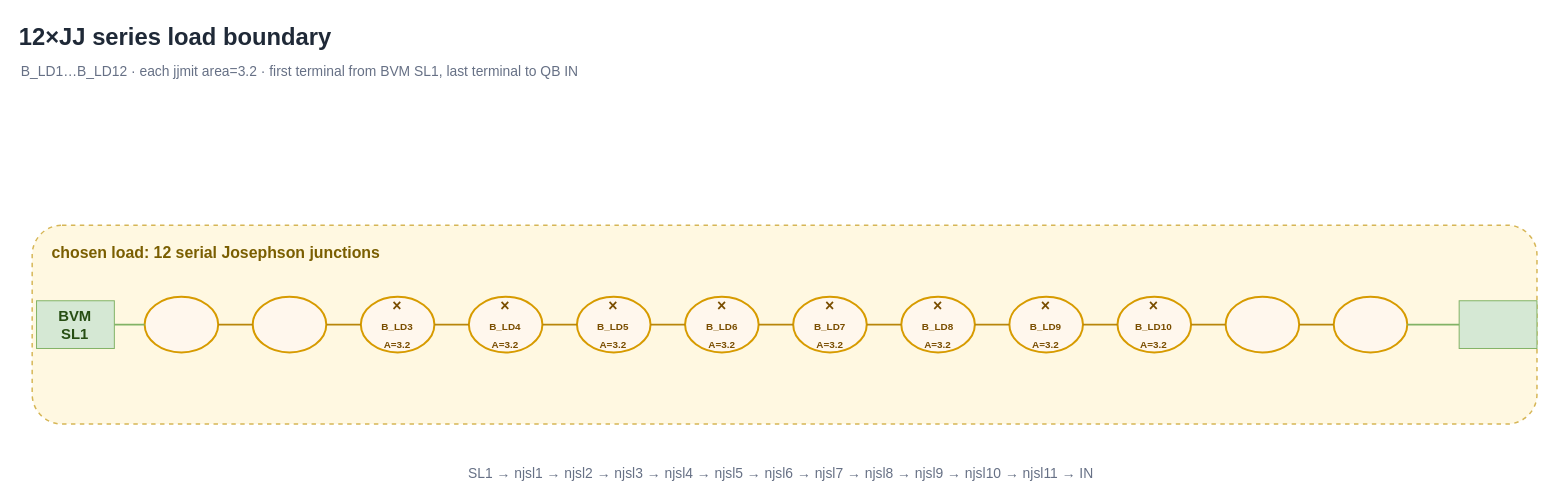
Image size: 1554x504. Some labels were removed from this diagram. The centre of each missing label's shape, as x and y in pixels:
QB IN: point (1497, 324)
× B_LD1 A=3.2: point (181, 324)
× B_LD11 A=3.2: point (1262, 324)
× B_LD12 A=3.2: point (1370, 324)
× B_LD2 A=3.2: point (289, 324)
